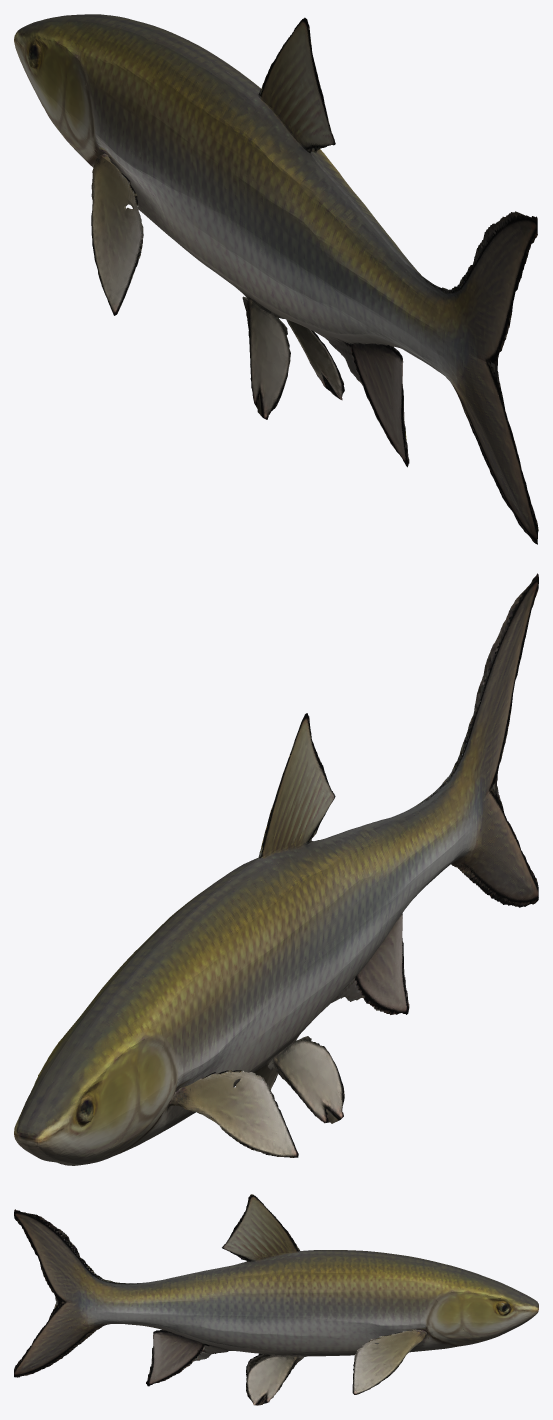
3 renders of one model, top to bottom at view 1: azimuth 30°, elevation 25°; view 2: azimuth 150°, elevation 25°; view 3: azimuth 270°, elevation 25°, orthographic. The views are drawn at different scales.
Visible parts, largest first — view 1: world; view 2: world; view 3: world.
Boxes of the visible parts, x1,y1,x2,y2 form: world: [14, 14, 538, 544]; world: [14, 573, 538, 1165]; world: [14, 1194, 538, 1405].
Bounding box in the file's own units: 0.2083 × 0.4241 × 1.
Materials: 1 (1 with a texture image).
